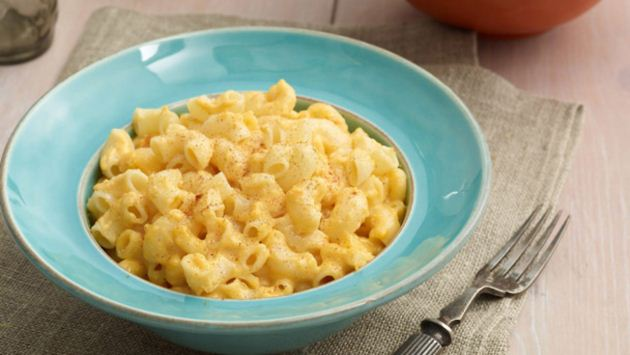macncheese: (74, 80, 415, 301)
